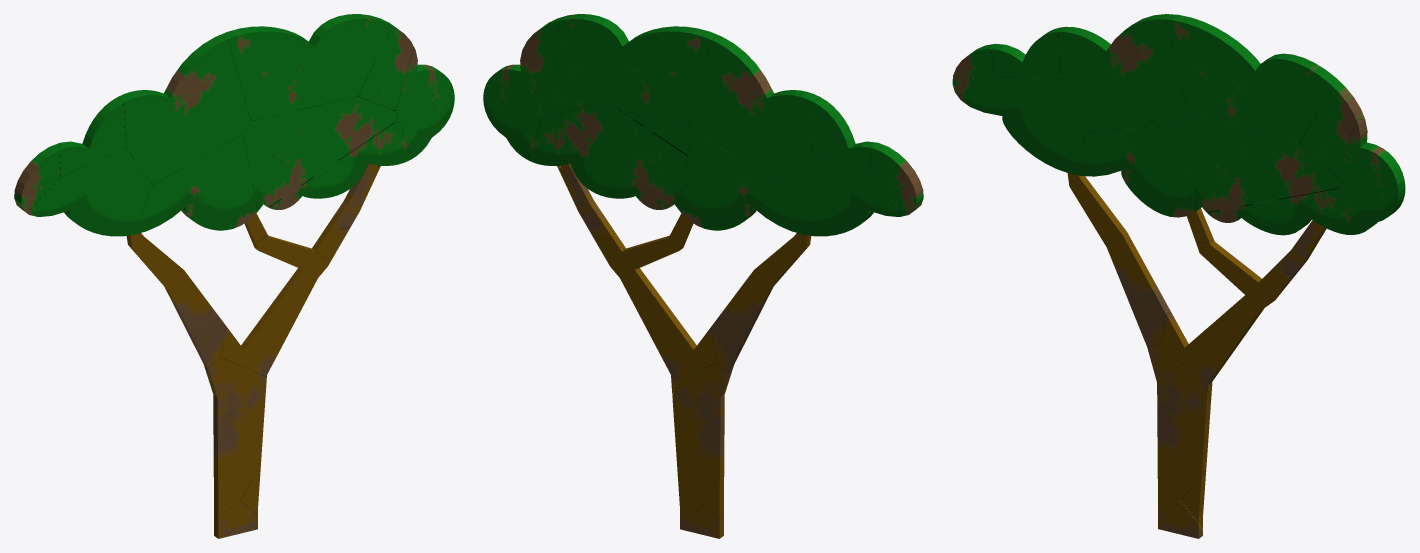
File: Arbol5.fbx
3 views of the same model, side by side, from view 1: azimuth 30°, elevation 25°; view 2: azimuth 150°, elevation 25°; view 3: azimuth 330°, elevation 25° (orthographic). The views are drawn at different scales.
Visible parts, largest first — view 1: arbol 5_cell.001, arbol 5_cell.011, arbol 5_cell.002, arbol 5_cell.003, arbol 5.001_cell.002, arbol 5_cell, arbol 5.001_cell.003, arbol 5.001_cell.006, arbol 5_cell.005, arbol 5_cell.010, arbol 5_cell.012, arbol 5_cell.007 (+4 smaller); view 2: arbol 5_cell.001, arbol 5_cell.011, arbol 5_cell.010, arbol 5_cell.003, arbol 5.001_cell.002, arbol 5_cell, arbol 5.001_cell.003, arbol 5.001_cell.006, arbol 5_cell.007, arbol 5_cell.005, arbol 5_cell.012, arbol 5_cell.006 (+4 smaller); view 3: arbol 5_cell.001, arbol 5_cell.011, arbol 5_cell.002, arbol 5_cell.003, arbol 5.001_cell.002, arbol 5_cell, arbol 5.001_cell.003, arbol 5.001_cell.006, arbol 5_cell.005, arbol 5_cell.010, arbol 5_cell.007, arbol 5_cell.012 (+6 smaller).
Part boxes in pixels (x1,y1,x2,y2): arbol 5_cell.001: (219, 14, 391, 120); arbol 5_cell.011: (117, 35, 250, 184); arbol 5_cell.002: (243, 96, 397, 210); arbol 5_cell.003: (133, 134, 257, 234); arbol 5.001_cell.002: (205, 357, 266, 518); arbol 5_cell: (27, 147, 152, 236); arbol 5.001_cell.003: (221, 235, 328, 376); arbol 5.001_cell.006: (126, 233, 226, 368); arbol 5_cell.005: (395, 47, 454, 157); arbol 5_cell.010: (268, 120, 412, 209); arbol 5_cell.012: (59, 97, 125, 176); arbol 5_cell.007: (357, 17, 413, 110); arbol 5_cell.001: (553, 14, 716, 125); arbol 5_cell.011: (688, 34, 820, 185); arbol 5_cell.010: (527, 103, 687, 213); arbol 5_cell.003: (682, 132, 806, 234); arbol 5.001_cell.002: (672, 362, 733, 519); arbol 5_cell: (786, 151, 914, 236); arbol 5.001_cell.003: (606, 235, 717, 380); arbol 5.001_cell.006: (711, 233, 811, 371); arbol 5_cell.007: (523, 21, 594, 118); arbol 5_cell.005: (483, 49, 542, 159); arbol 5_cell.012: (811, 97, 884, 176); arbol 5_cell.006: (870, 145, 923, 215); arbol 5_cell.001: (1165, 14, 1333, 142); arbol 5_cell.011: (1058, 14, 1188, 131); arbol 5_cell.002: (1181, 115, 1339, 212); arbol 5_cell.003: (1067, 124, 1195, 217); arbol 5.001_cell.002: (1147, 343, 1210, 508); arbol 5_cell: (959, 77, 1087, 172); arbol 5.001_cell.003: (1160, 240, 1278, 385); arbol 5.001_cell.006: (1067, 173, 1170, 347); arbol 5_cell.005: (1337, 118, 1405, 234); arbol 5_cell.010: (1198, 187, 1355, 235); arbol 5_cell.007: (1299, 74, 1364, 176); arbol 5_cell.012: (991, 27, 1064, 78).
Size of the model in its own units: 642 by 708 by 17.73.
